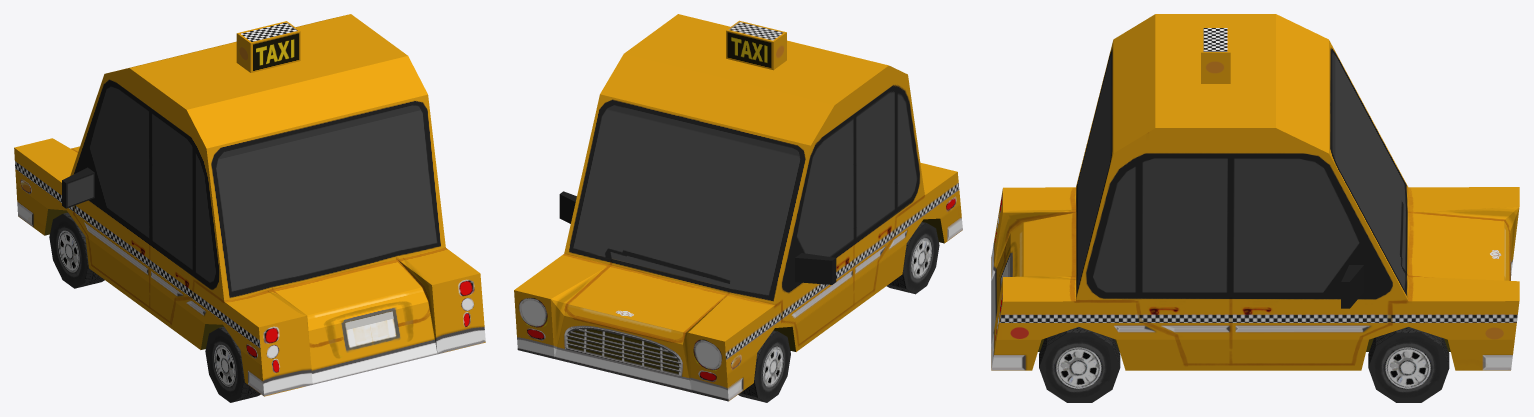
Rendered from taxi_DAE14.dae.
3 views of the same model, side by side, from view 1: azimuth 30°, elevation 25°; view 2: azimuth 150°, elevation 25°; view 3: azimuth 270°, elevation 25° (orthographic). The views are drawn at different scales.
Visible parts, largest first — view 1: taxi_body, wheel_FR, wheel_BR; view 2: taxi_body, wheel_FR, wheel_BR; view 3: taxi_body, wheel_FL, wheel_BL.
Part boxes in pixels (x1,y1,x2,y2): taxi_body: (14,14,485,396); wheel_FR: (49,212,104,288); wheel_BR: (205,326,260,402); taxi_body: (514,14,962,401); wheel_FR: (738,330,790,402); wheel_BR: (886,222,939,294); taxi_body: (991,14,1519,370); wheel_FL: (1368,327,1449,402); wheel_BL: (1039,327,1120,402).
Size of the model in its own units: 245 by 239 by 370.
